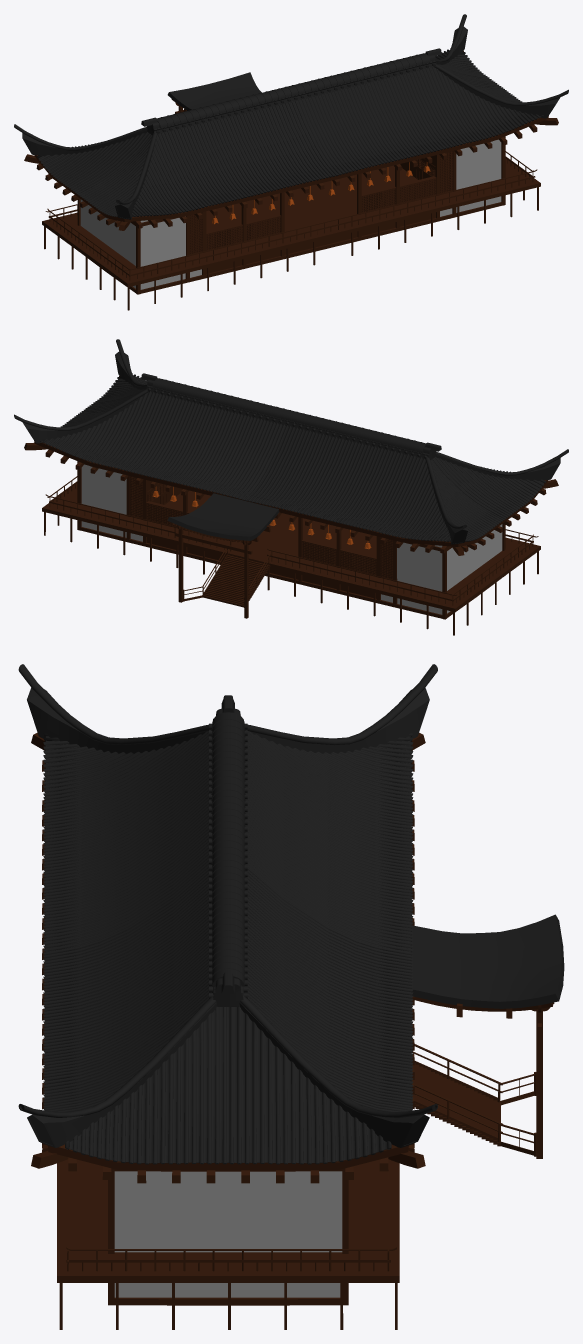
The model's file is house1.FBX.
The picture shows the model from 3 angles, top to bottom: view 1: azimuth 30°, elevation 25°; view 2: azimuth 150°, elevation 25°; view 3: azimuth 270°, elevation 25°; orthographic projection. The views are drawn at different scales.
Visible parts, largest first — view 1: big_pagoda_01_roof, big_pagoda_01_wood, big_pagoda_01_wall, big_pagoda_01_add; view 2: big_pagoda_01_roof, big_pagoda_01_wood, big_pagoda_01_wall, big_pagoda_01_add; view 3: big_pagoda_01_roof, big_pagoda_01_wood, big_pagoda_01_wall.
Boxes of the visible parts, x1=… form: big_pagoda_01_roof: x1=14, y1=14, x2=568, y2=219; big_pagoda_01_wood: x1=24, y1=51, x2=558, y2=310; big_pagoda_01_wall: x1=80, y1=139, x2=501, y2=289; big_pagoda_01_add: x1=211, y1=162, x2=430, y2=224; big_pagoda_01_roof: x1=14, y1=339, x2=568, y2=544; big_pagoda_01_wood: x1=24, y1=376, x2=558, y2=635; big_pagoda_01_wall: x1=81, y1=464, x2=502, y2=614; big_pagoda_01_add: x1=152, y1=486, x2=371, y2=549; big_pagoda_01_roof: x1=18, y1=664, x2=564, y2=1164; big_pagoda_01_wood: x1=31, y1=732, x2=554, y2=1329; big_pagoda_01_wall: x1=114, y1=1171, x2=342, y2=1297.
Bounding box in the file's own units: 27.3 × 8.33 × 14.24.
